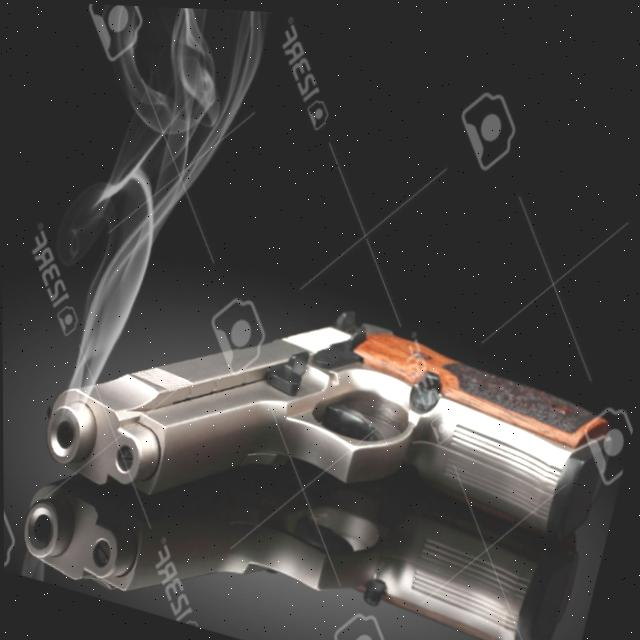pistol: (28, 235, 620, 621), (11, 372, 588, 640)
